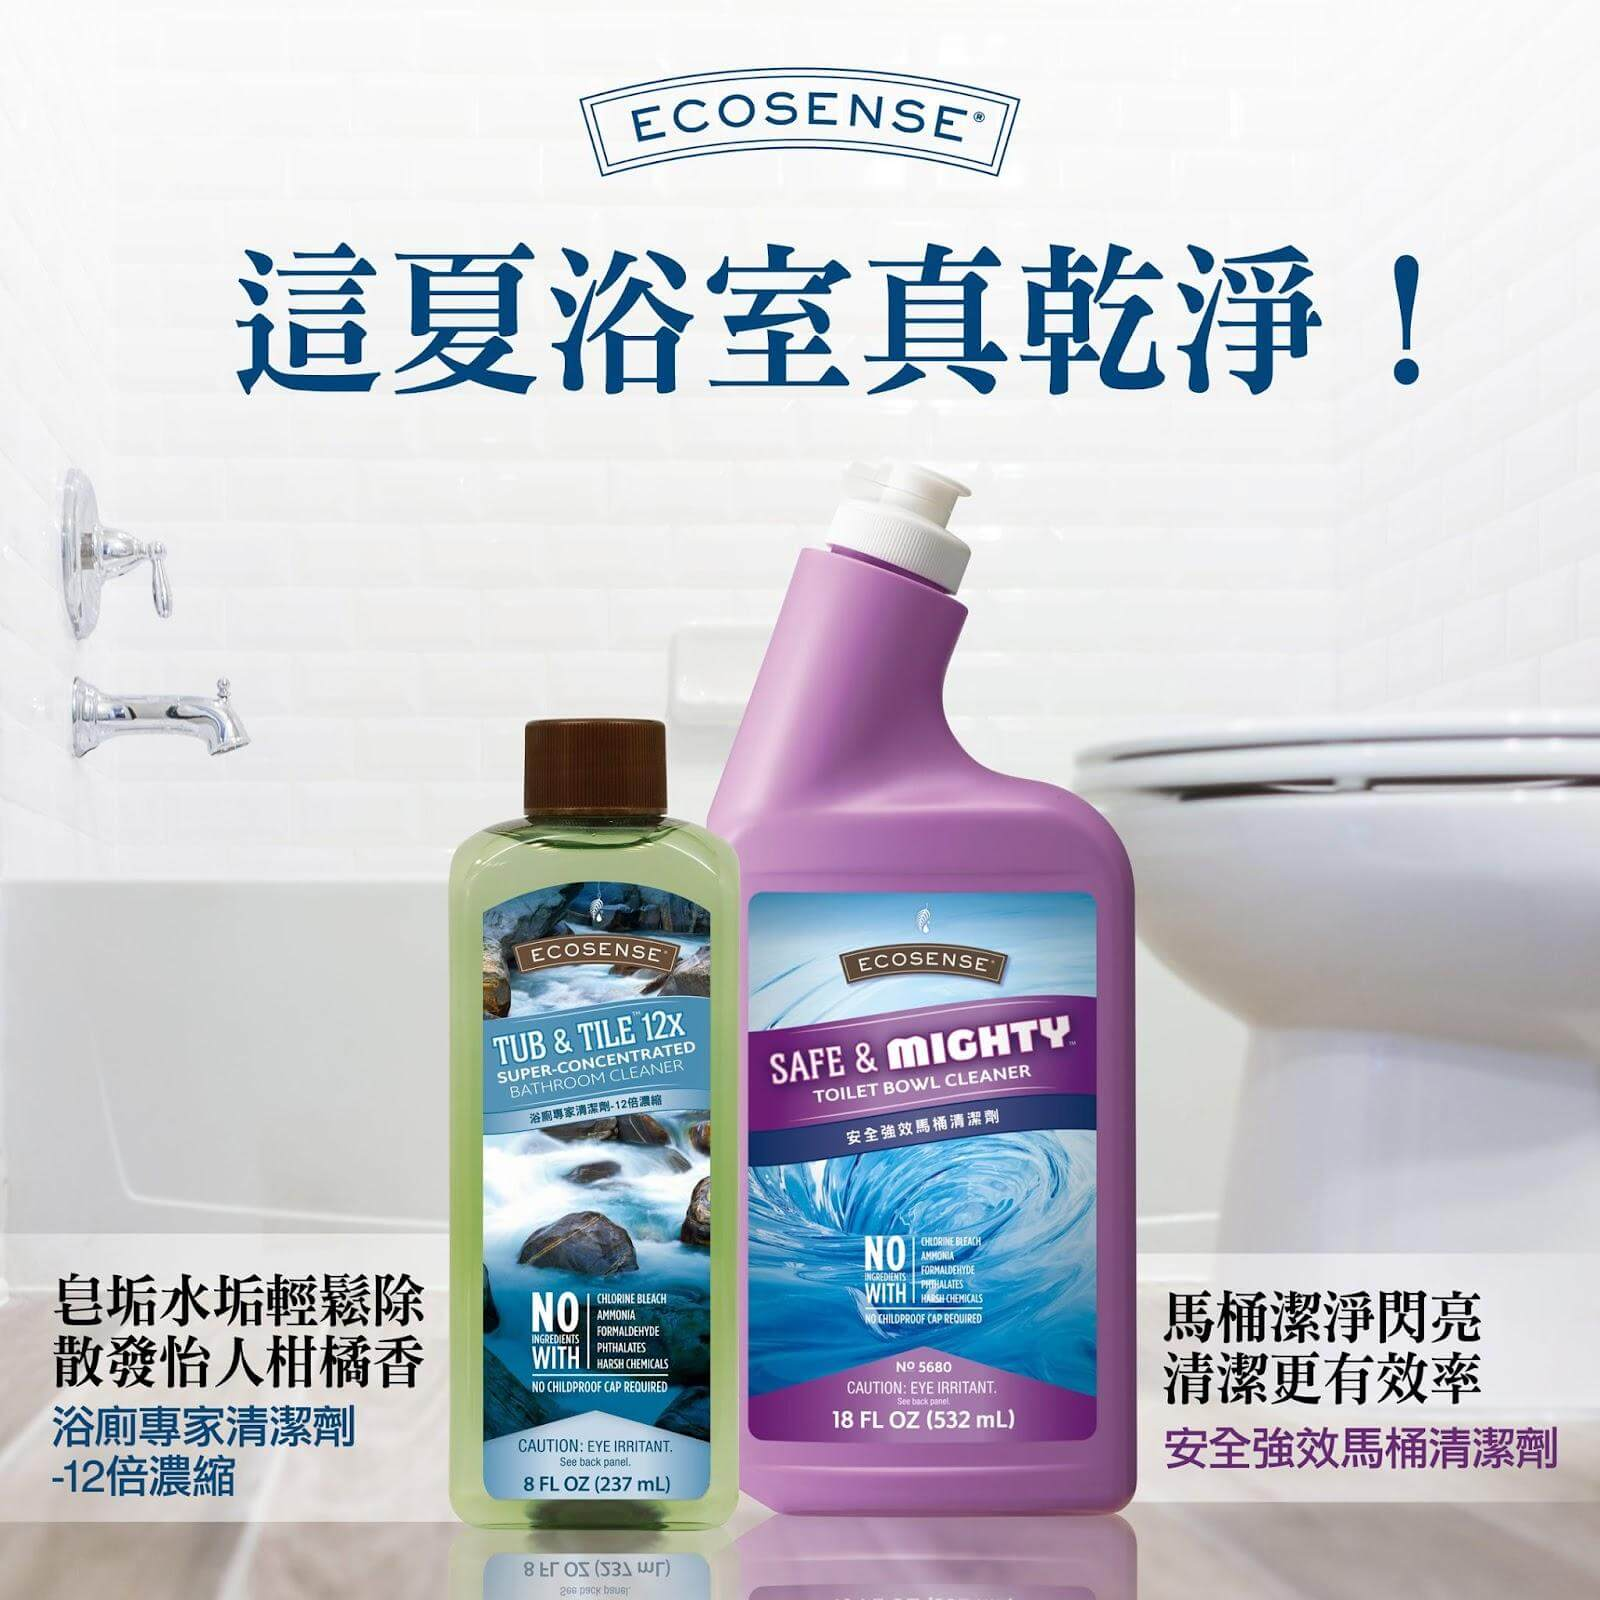cleaner: (700, 450, 1155, 1525)
